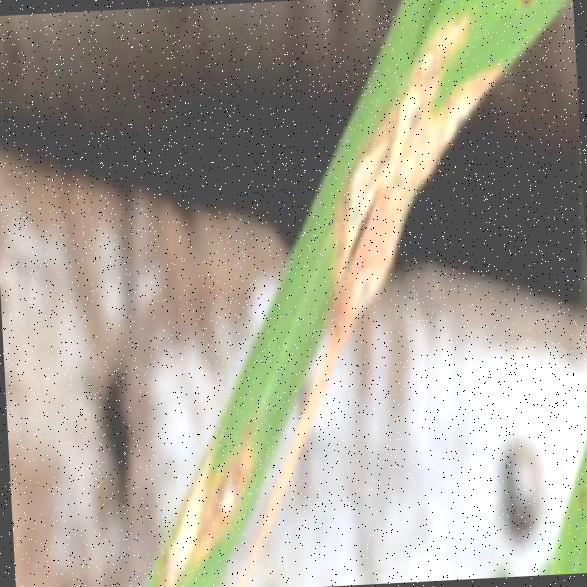Leaf_smut: (289, 12, 520, 326), (190, 437, 262, 528)
